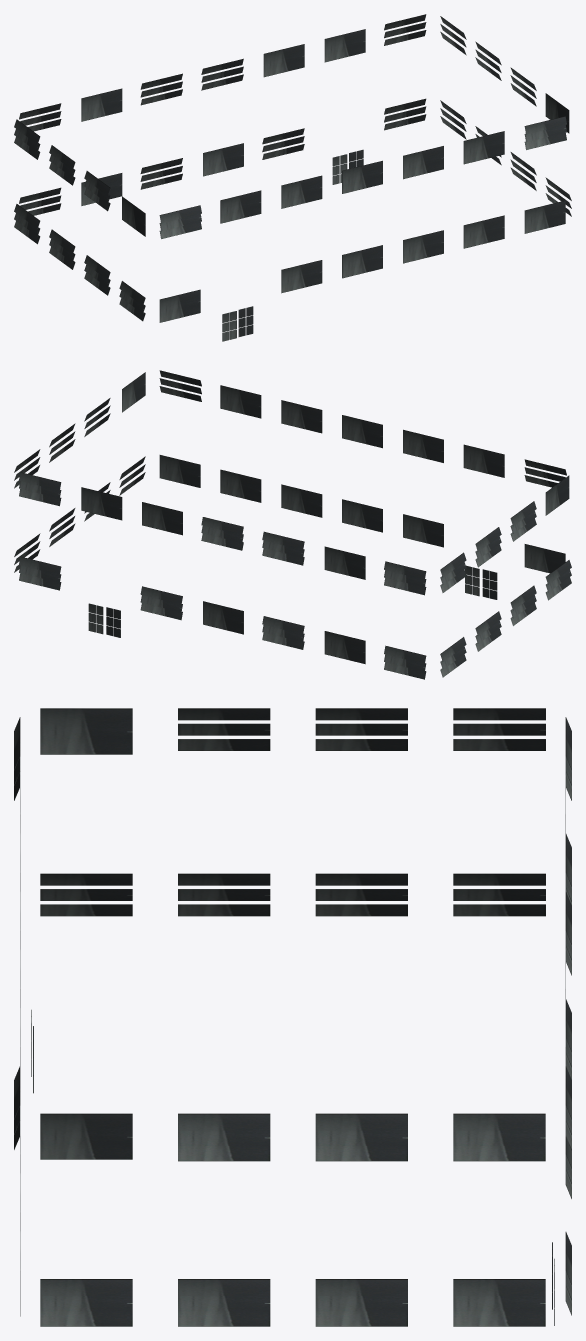
File: TRANS_Building_2Stores_StockHouse.obj
3 views of the same model, one above another, from view 1: azimuth 30°, elevation 25°; view 2: azimuth 150°, elevation 25°; view 3: azimuth 270°, elevation 25° (orthographic). The views are drawn at different scales.
Parts seen in each view (by area): view 1: TRANS_Building_2Stores_StockHouse; view 2: TRANS_Building_2Stores_StockHouse; view 3: TRANS_Building_2Stores_StockHouse.
Boxes of the visible parts, box(x1,y1,x2,y2) form: TRANS_Building_2Stores_StockHouse: box(14, 14, 571, 341); TRANS_Building_2Stores_StockHouse: box(14, 370, 571, 679); TRANS_Building_2Stores_StockHouse: box(14, 708, 571, 1326).
Bounding box in the file's own units: 9.26 × 2.98 × 5.32.
